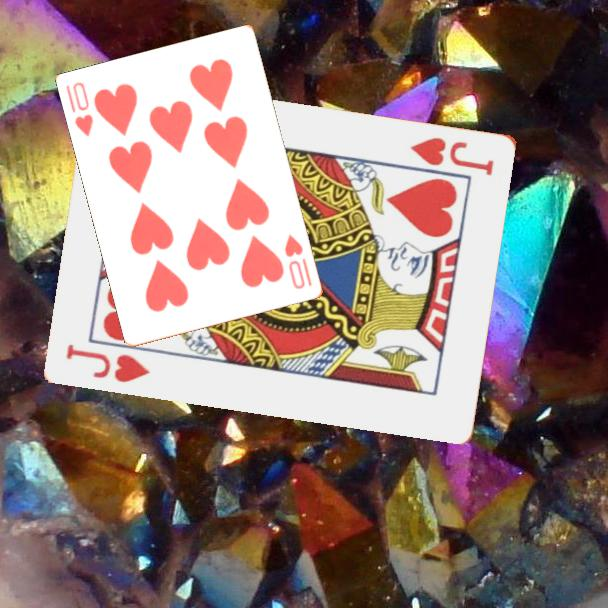h10: (281, 231, 315, 292), (63, 79, 97, 140)
h11: (63, 340, 154, 385), (407, 133, 497, 178)
